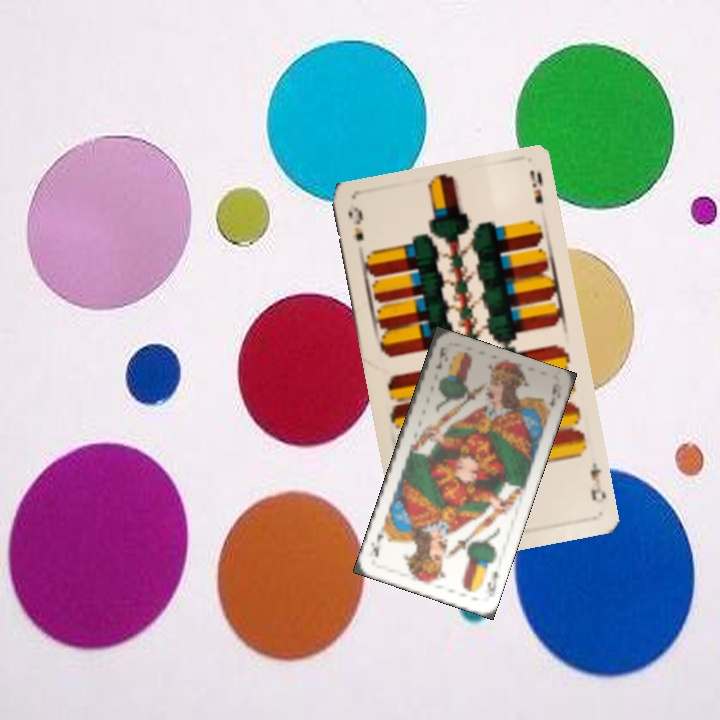E9: (586, 458, 609, 503), (344, 203, 366, 244)
EK: (480, 567, 501, 600), (431, 343, 451, 372)
